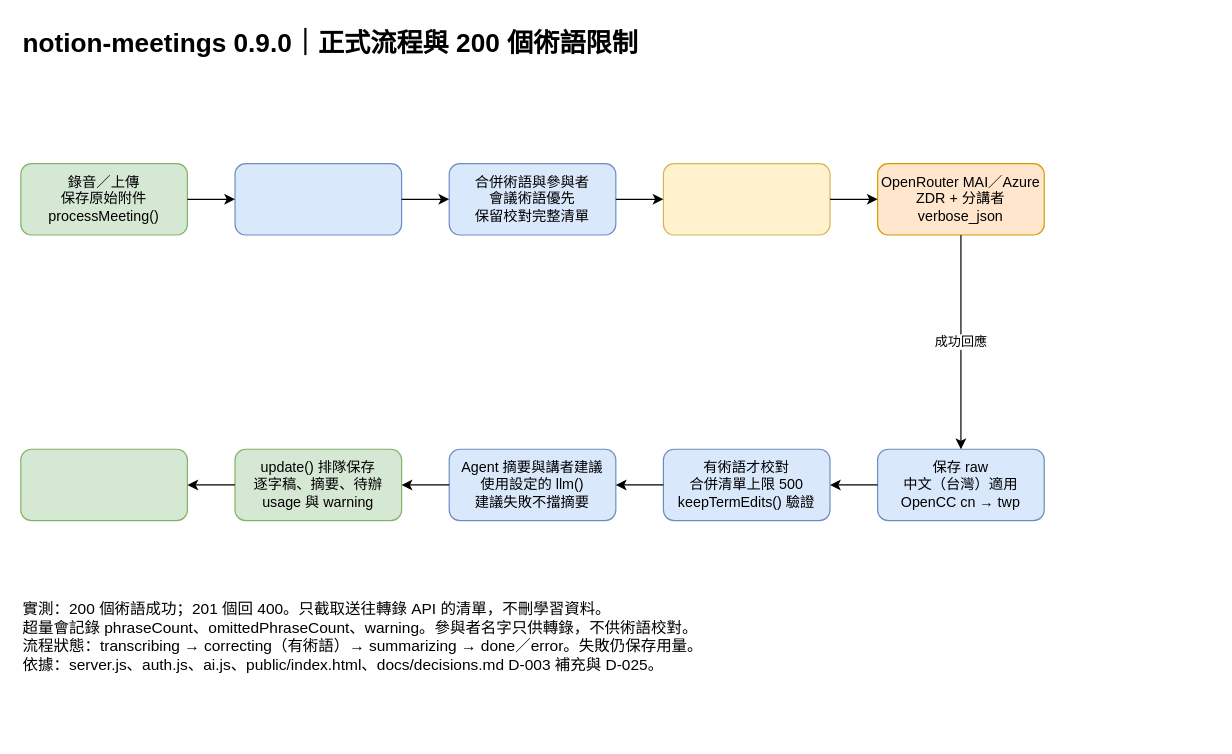
This 1232x754 diagram has some shape labels left out. Here are the shapes that lost their labels. From the top down, the centre of each, then its label:
pixel 318 198: ffmpeg 單聲道 16 kHz 48 kbps MP3
pixel 746 198: requestTranscription() 僅送前 200 個術語 記錄超量警告
pixel 103 484: Web 每 2 秒輪詢 顯示完成或錯誤 用量明細顯示略過數
